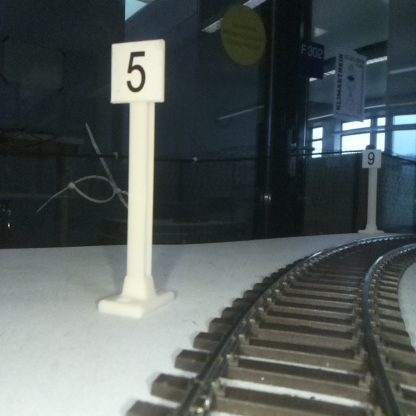white-info-5: (111, 41, 164, 313)
white-info-9: (362, 149, 381, 232)
